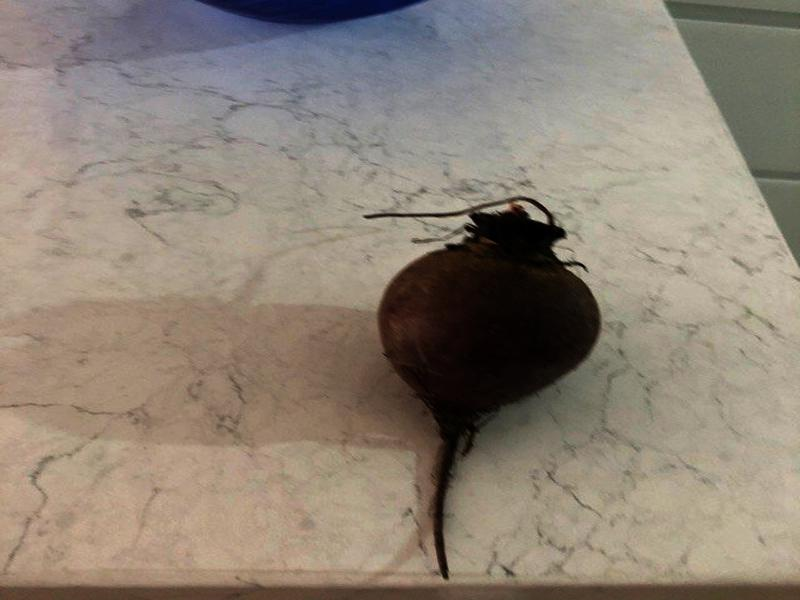Beet: (362, 195, 598, 578)
